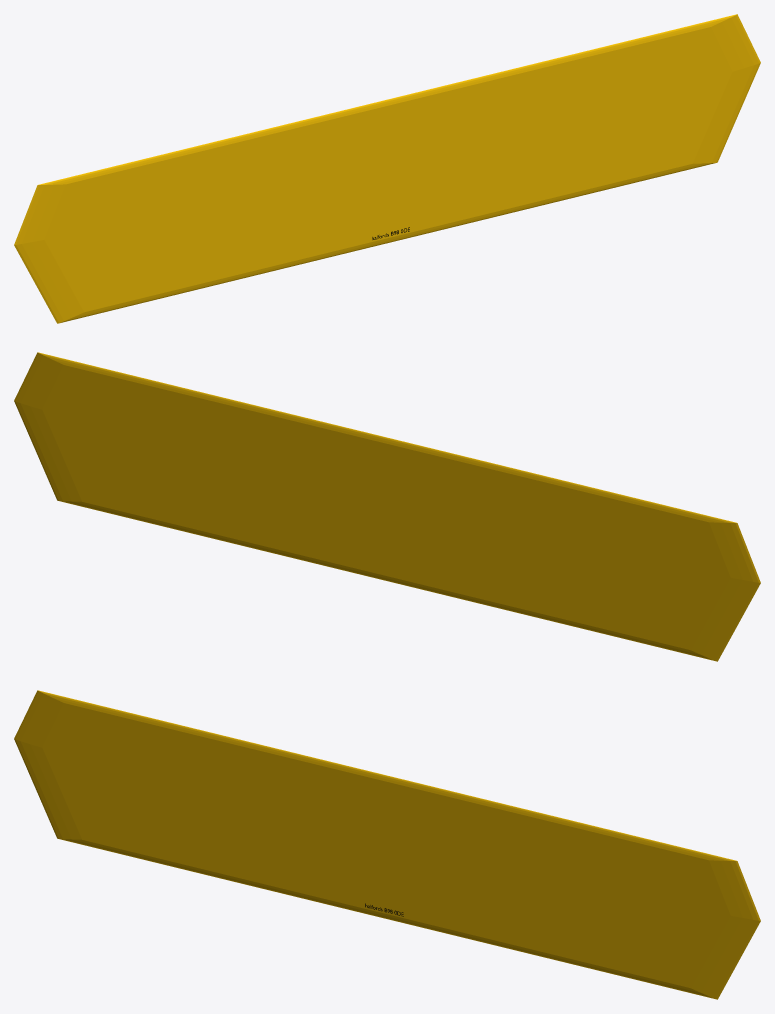
File: hex_halford.gltf
3 renders of one model, top to bottom at view 1: azimuth 30°, elevation 25°; view 2: azimuth 150°, elevation 25°; view 3: azimuth 330°, elevation 25°, orthographic.
Parts seen in each view (by area): view 1: Plane; view 2: Plane; view 3: Plane.
Part boxes in pixels (x1,y1,x2,y2): Plane: (14, 14, 760, 323); Plane: (14, 352, 760, 661); Plane: (14, 690, 760, 999).
Bounding box in the file's own units: 11.81 × 2.17 × 0.1162.
